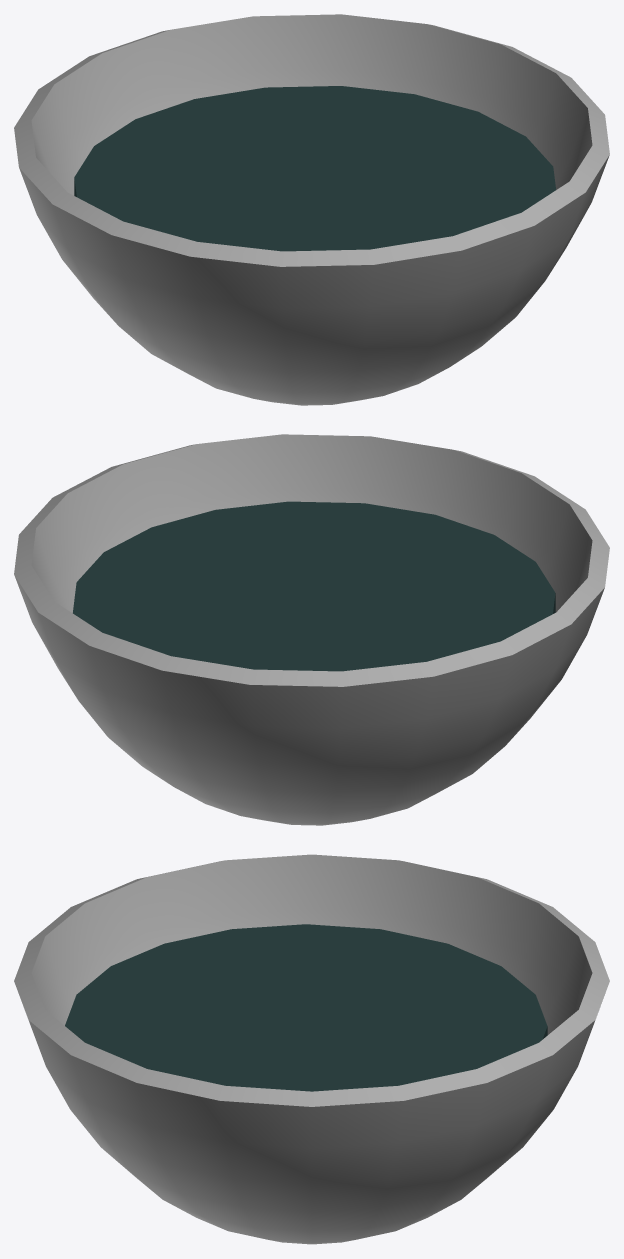
The model's file is soupBowl.fbx.
3 views of the same model, one above another, from view 1: azimuth 30°, elevation 25°; view 2: azimuth 150°, elevation 25°; view 3: azimuth 270°, elevation 25° (orthographic).
Parts seen in each view (by area): view 1: pCylinder2; view 2: pCylinder2; view 3: pCylinder2.
Boxes of the visible parts, bbox=[...] form: pCylinder2: bbox=[14, 14, 609, 405]; pCylinder2: bbox=[14, 434, 609, 825]; pCylinder2: bbox=[14, 854, 609, 1244].
Bounding box in the file's own units: 3.94 × 1.8 × 3.94.
